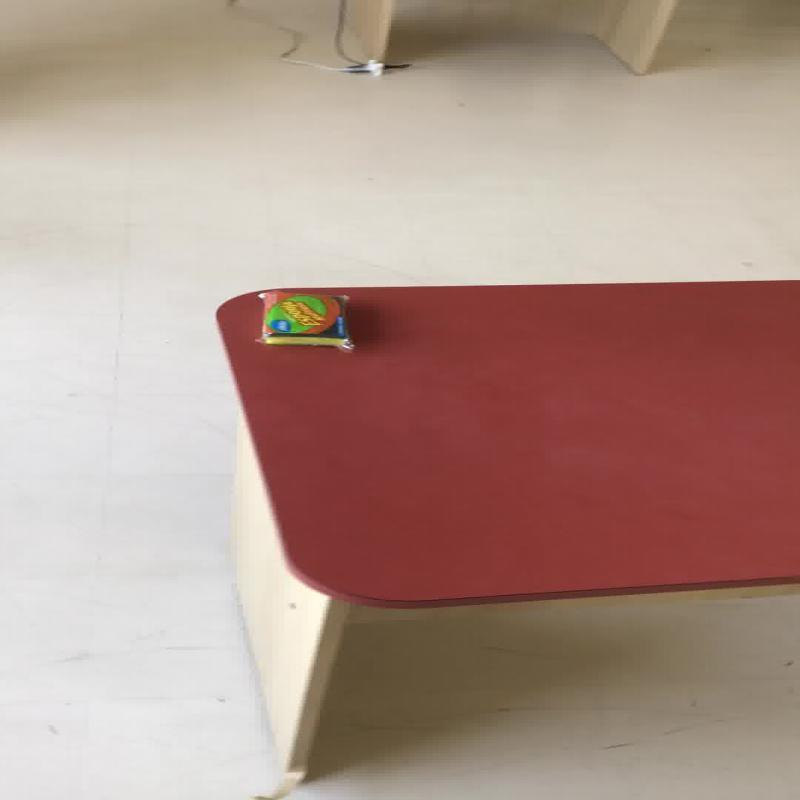sponge: (257, 290, 352, 348)
